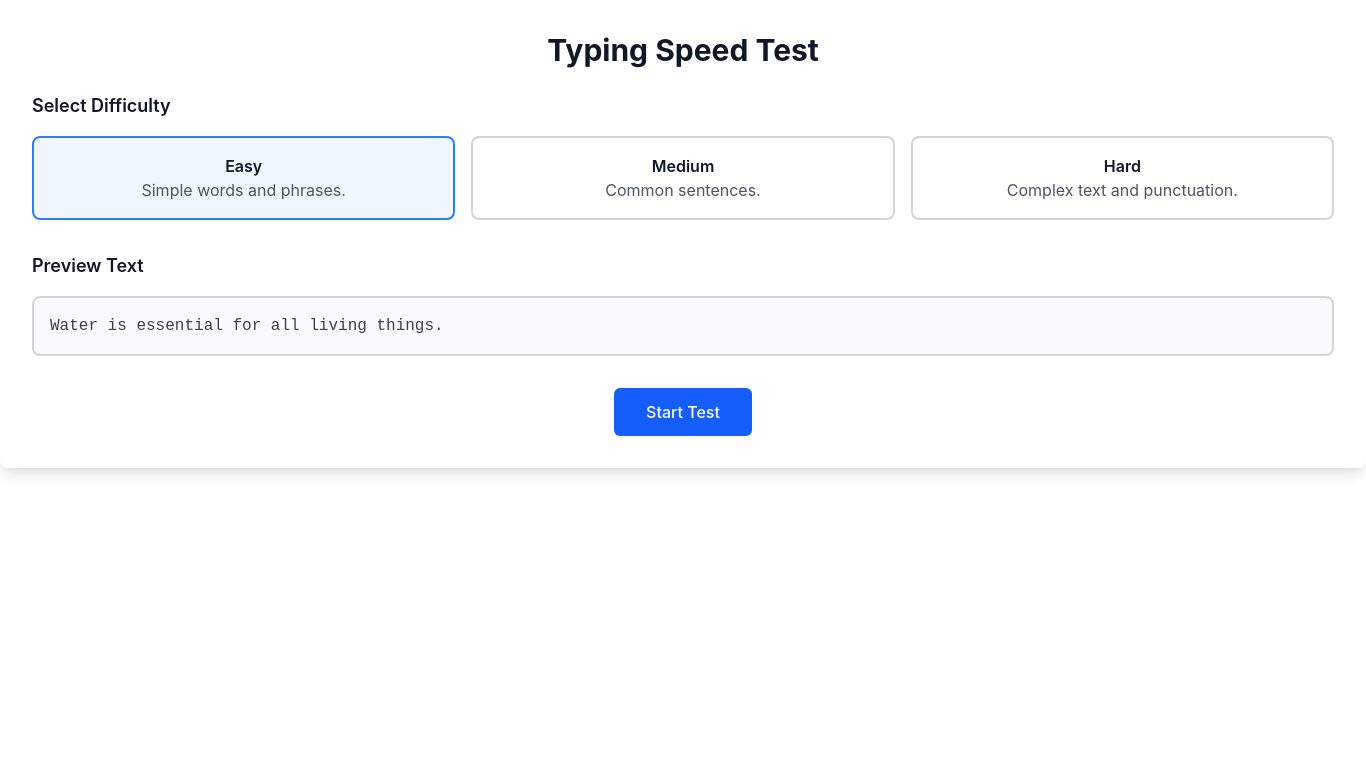
Test: TypingTestApp › starts test when clicking Start Test button
This screenshot has width=1366, height=768.
Click the button "Start Test" at x=683, y=412, box [614, 388, 752, 436]
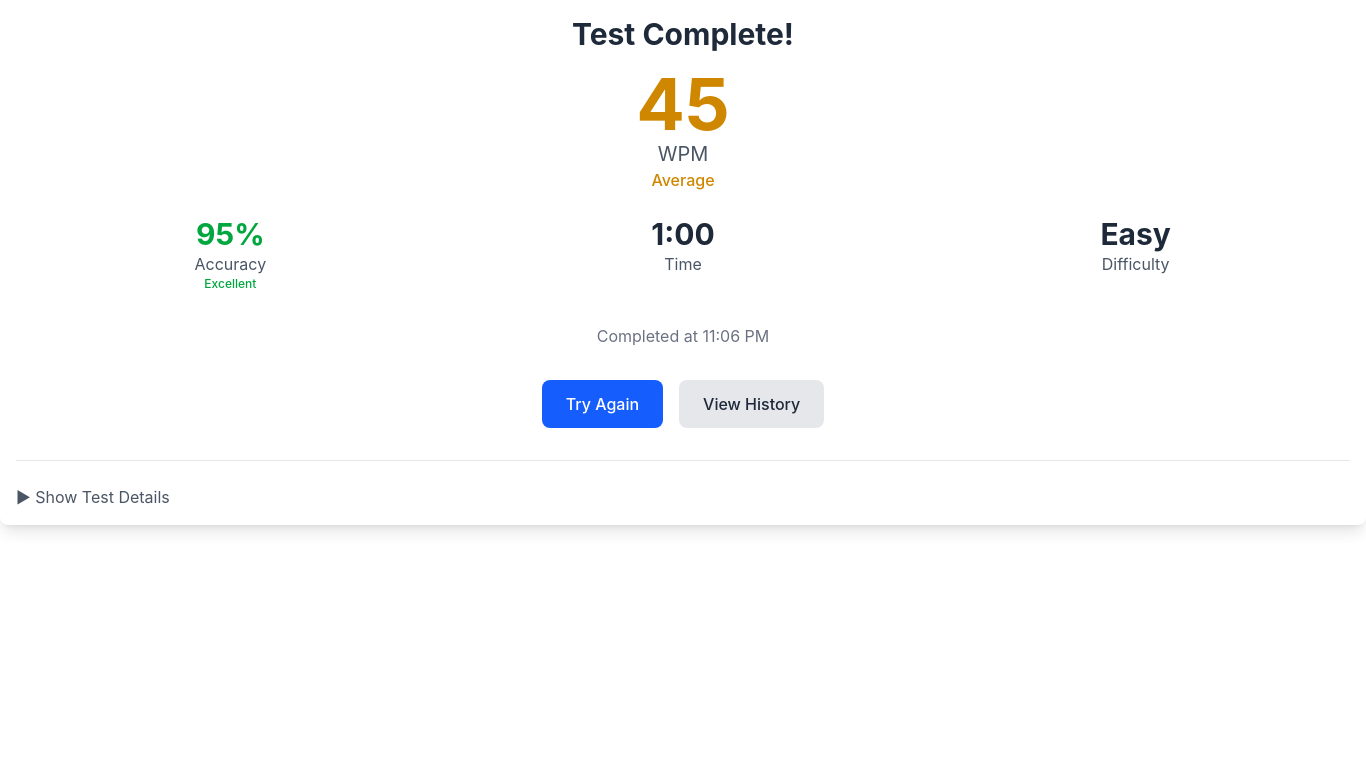
Now the heading "Test Complete!" is shown, box [572, 16, 794, 52]
